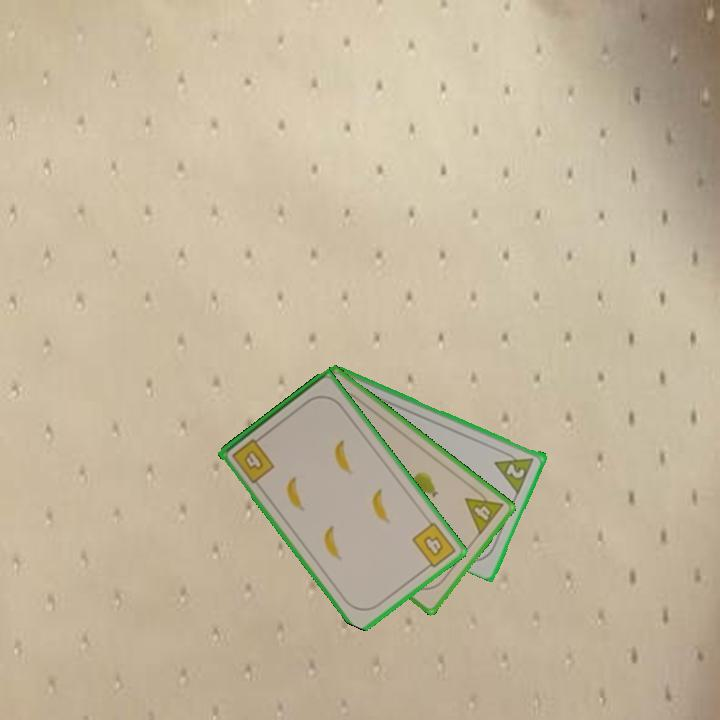2p: (491, 446, 537, 495)
4b: (408, 519, 459, 574), (228, 432, 278, 486)
4p: (461, 484, 506, 538)
